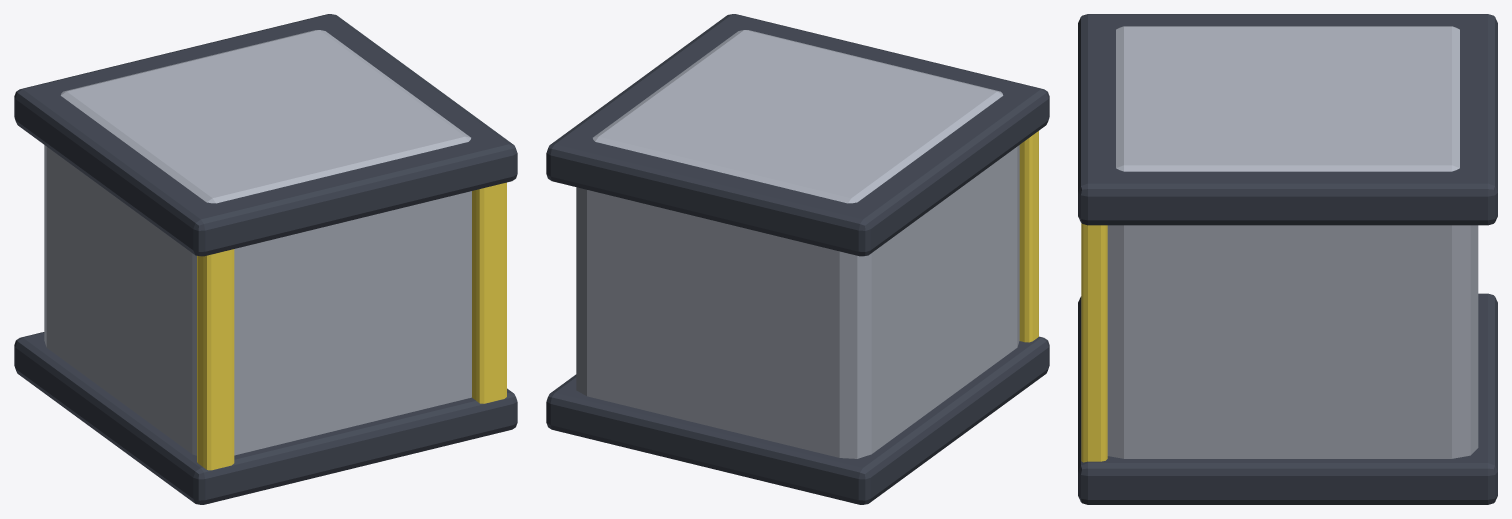
The model's file is crate.glb.
3 renders of one model, left to right at view 1: azimuth 30°, elevation 25°; view 2: azimuth 150°, elevation 25°; view 3: azimuth 270°, elevation 25°, orthographic. The views are drawn at different scales.
Visible parts, largest first — view 1: crate_body, rim_z_1.02, rim_z_0.08, rim_x_-0.54, rim_x_0.54; view 2: crate_body, rim_z_1.02, rim_z_0.08, rim_x_-0.54; view 3: crate_body, rim_z_1.02, rim_z_0.08, rim_x_0.54.
Part boxes in pixels (<box>): crate_body: <box>44,30,471,455</box>; rim_z_1.02: <box>14,14,517,256</box>; rim_z_0.08: <box>14,332,517,504</box>; rim_x_-0.54: <box>197,249,234,470</box>; rim_x_0.54: <box>472,182,506,403</box>; crate_body: <box>576,30,1019,458</box>; rim_z_1.02: <box>546,14,1049,256</box>; rim_z_0.08: <box>546,336,1049,504</box>; rim_x_-0.54: <box>1019,131,1038,342</box>; crate_body: <box>1107,26,1478,458</box>; rim_z_1.02: <box>1078,14,1497,225</box>; rim_z_0.08: <box>1078,293,1497,504</box>; rim_x_0.54: <box>1081,223,1107,462</box>.
Bounding box in the file's own units: 1.28 × 1.1 × 1.28.
